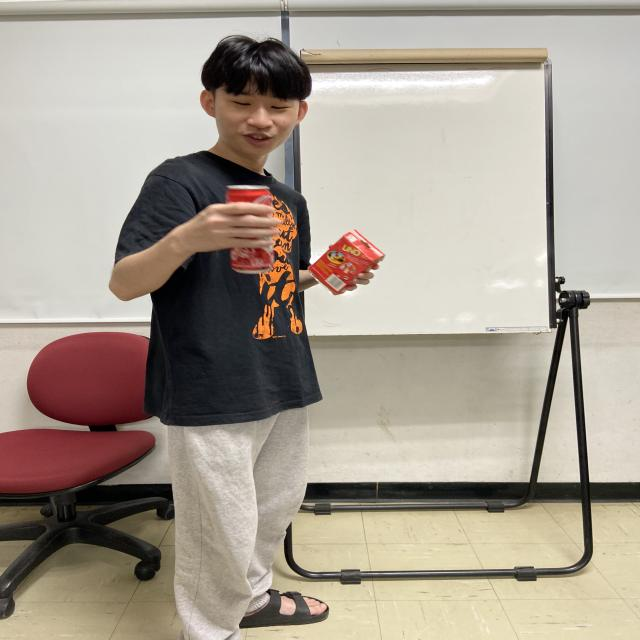can: (226, 185, 275, 274)
